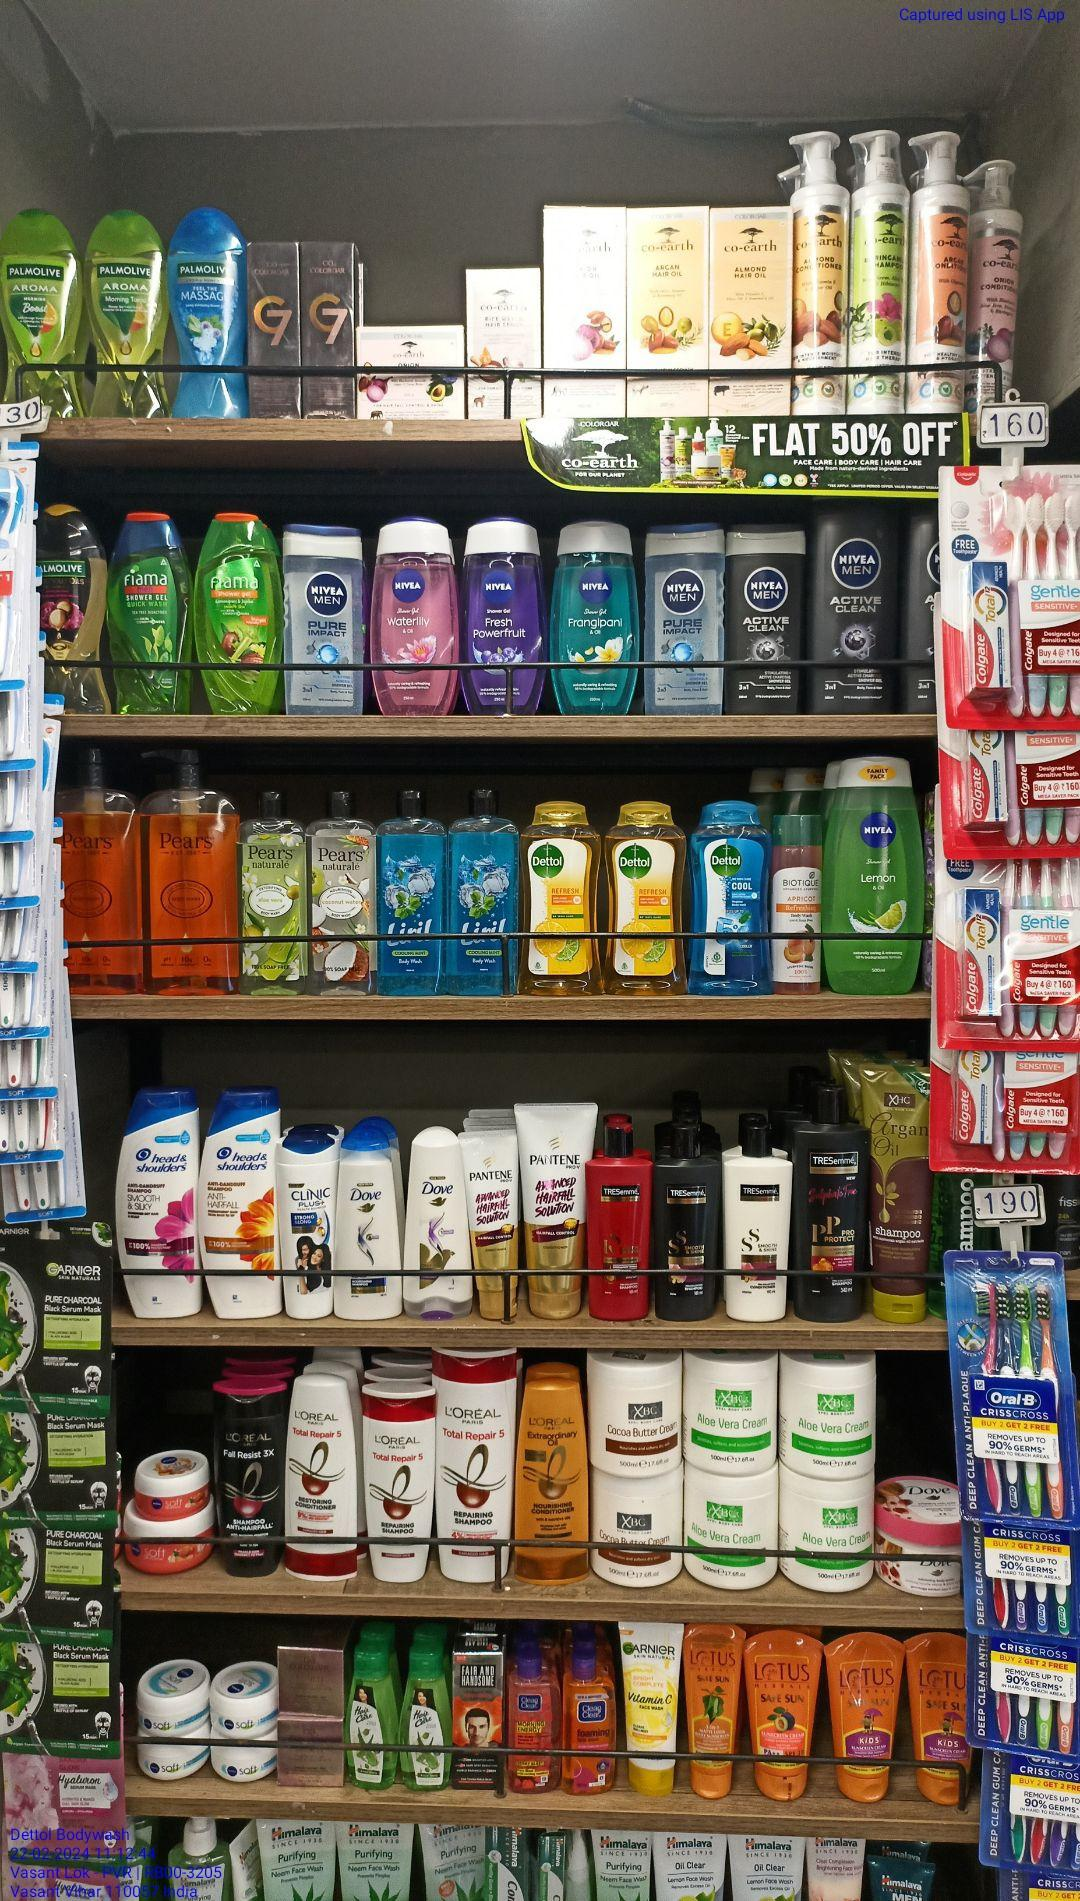Dettol_Bodywash_Cool: (690, 800, 770, 998)
Dettol_Bodywash_Refresh: (525, 799, 603, 999), (609, 806, 683, 995)
Fiama_Shower_Gel_Lemongrass_and_Jojoba_250ML: (196, 509, 279, 713)
Liril_Cooling_Mint_Body_Wash_250ML: (451, 787, 518, 995), (379, 793, 444, 995)
Nivea_Shower_Gel_Frangipani_and_Oil_250ML: (554, 526, 640, 715)
Nivea_Shower_Gel_Fresh_Powerfruit_250ML: (465, 524, 545, 721)
Nivea_Shower_Gel_Lemon_and_Oil_250ML: (825, 756, 930, 991)
Nivea_Shower_Gel_Waterlily_and_Oil_250ML: (375, 517, 460, 714)
Palmolive_Aroma_Moments_Feel_The_Massage_Shower_Gel_250ML: (167, 206, 252, 422)
Palmolive_Aroma_Morning_Tonic_Shower_Gel_250ML: (87, 197, 154, 419)
Palmolive_Luminous_Oils_Invigorating_Macadamia_Oil_With_Peony_250ML: (39, 509, 116, 712)
Pears_Naturale_Aloe_Vera_Body_Wash_250ML: (239, 794, 310, 996)
